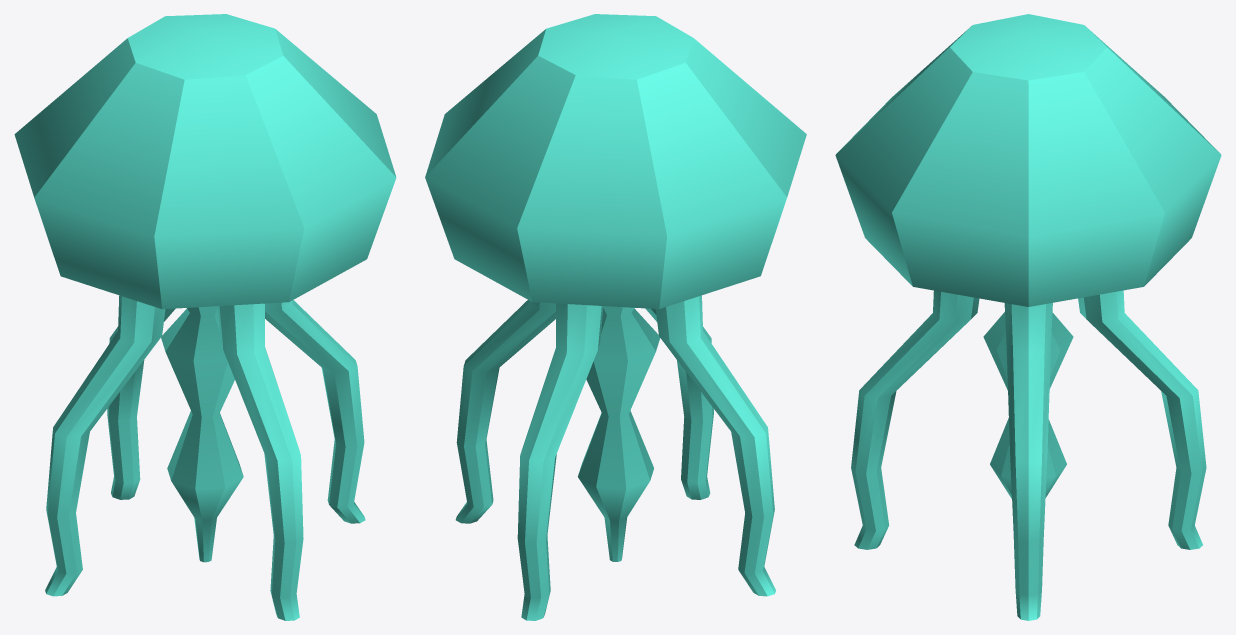
The model's file is jellyfish_turquoise.glb.
The picture shows the model from 3 angles, left to right: view 1: azimuth 30°, elevation 25°; view 2: azimuth 150°, elevation 25°; view 3: azimuth 270°, elevation 25°; orthographic projection. The views are drawn at different scales.
Visible parts, largest first — view 1: pCylinder6.001; view 2: pCylinder6.001; view 3: pCylinder6.001.
Boxes of the visible parts, x1,y1,x2,y2 form: pCylinder6.001: (14, 14, 396, 620); pCylinder6.001: (425, 14, 806, 620); pCylinder6.001: (835, 14, 1221, 620).
Size of the model in its own units: 0.4495 by 0.6583 by 0.4495.
1 material, 1 textured.
